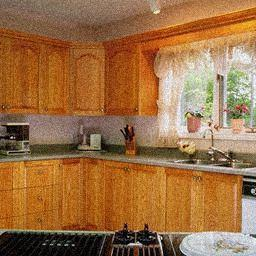Electrodomestico: (3, 229, 251, 255)
Lavaplatos: (168, 123, 250, 175)
